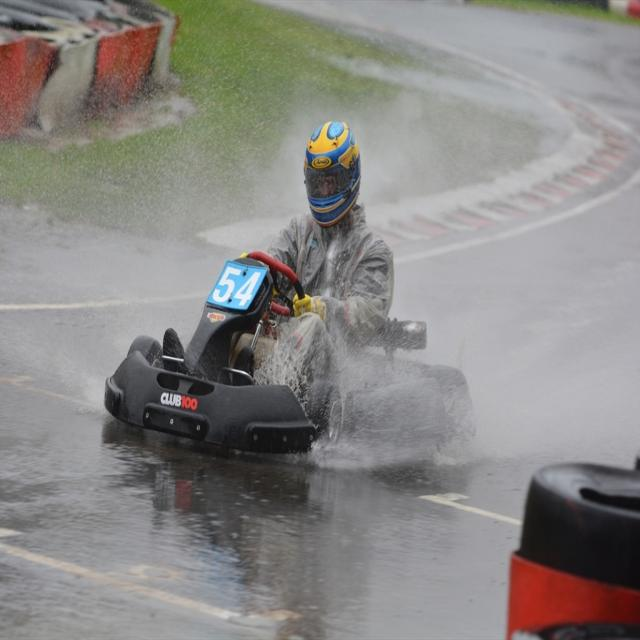car: (104, 249, 477, 459)
